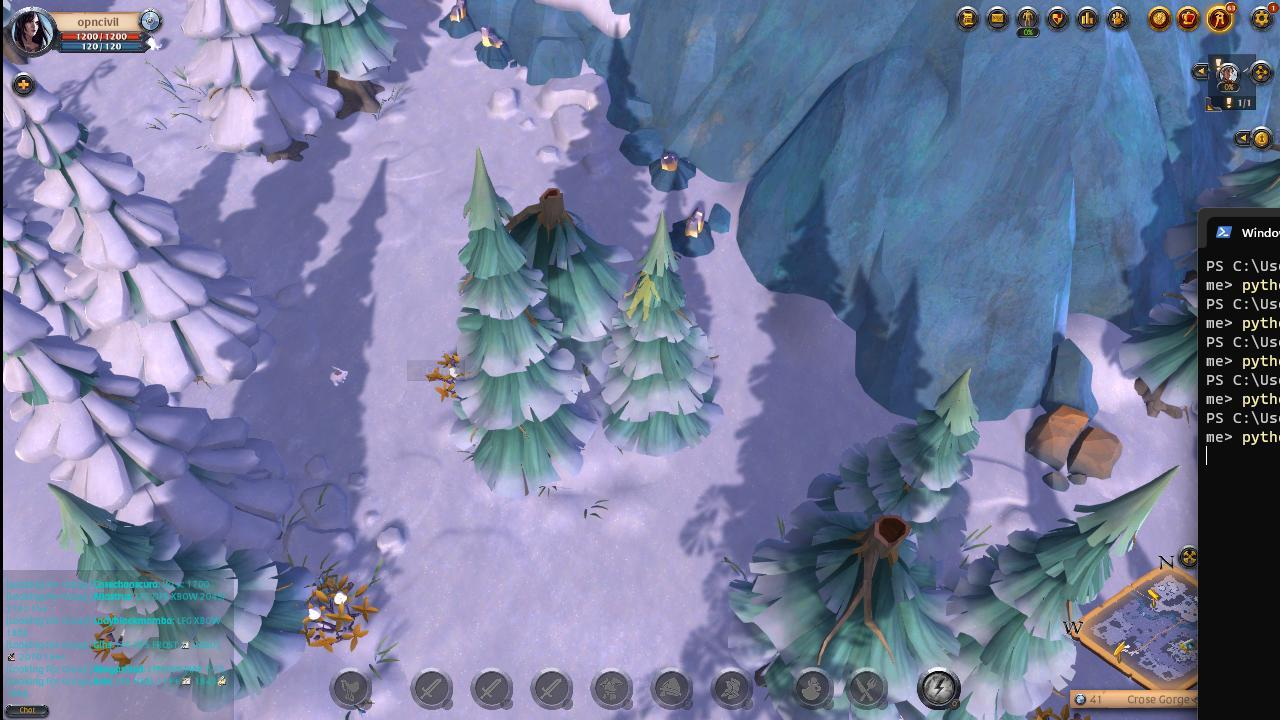copper_ore: (669, 206, 717, 259), (647, 148, 698, 195), (475, 23, 513, 72), (438, 0, 476, 39)
cotton: (297, 570, 380, 656), (424, 344, 461, 404)
limestone: (1018, 396, 1124, 500)
